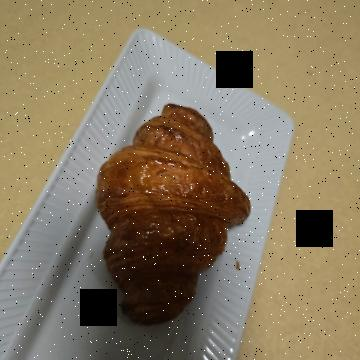croissant: (83, 111, 336, 290)
